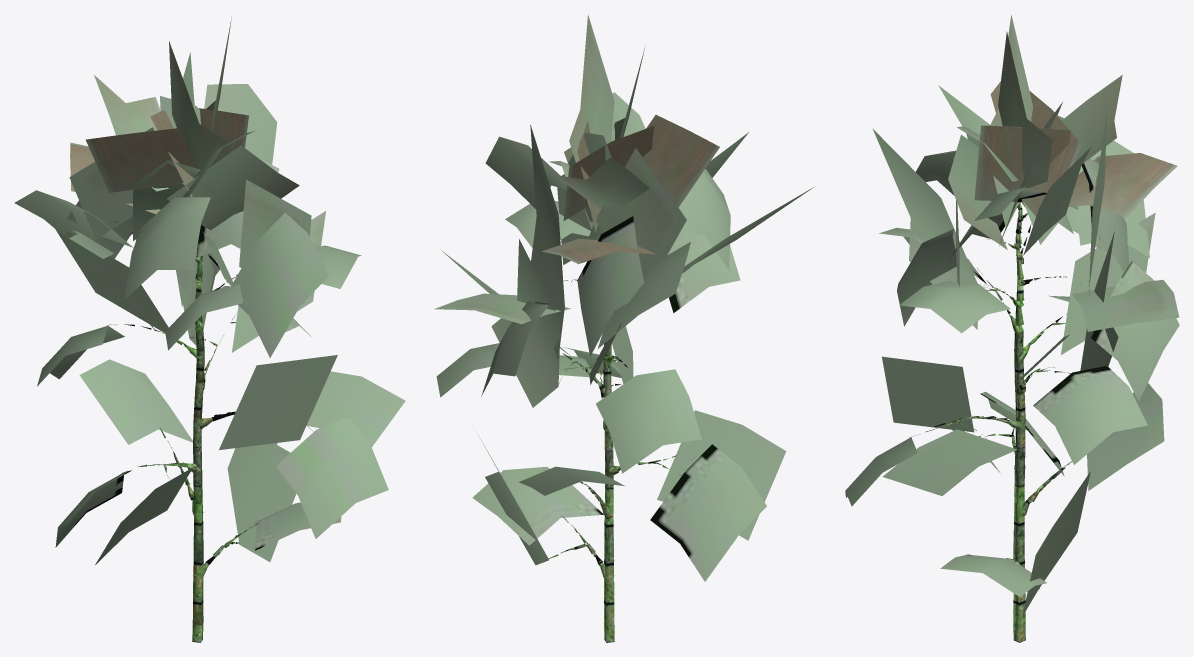
Rendered from tree_9.glb.
3 renders of one model, left to right at view 1: azimuth 30°, elevation 25°; view 2: azimuth 150°, elevation 25°; view 3: azimuth 270°, elevation 25°, orthographic.
Parts seen in each view (by area): view 1: Oak_Leav; view 2: Oak_Leav; view 3: Oak_Leav.
Part boxes in pixels (x1,y1,x2,y2): Oak_Leav: [14, 16, 405, 642]; Oak_Leav: [434, 14, 813, 642]; Oak_Leav: [845, 15, 1179, 642].
Bounding box in the file's own units: 1.51 × 2.65 × 1.29.
Materials: 1 (1 with a texture image).
